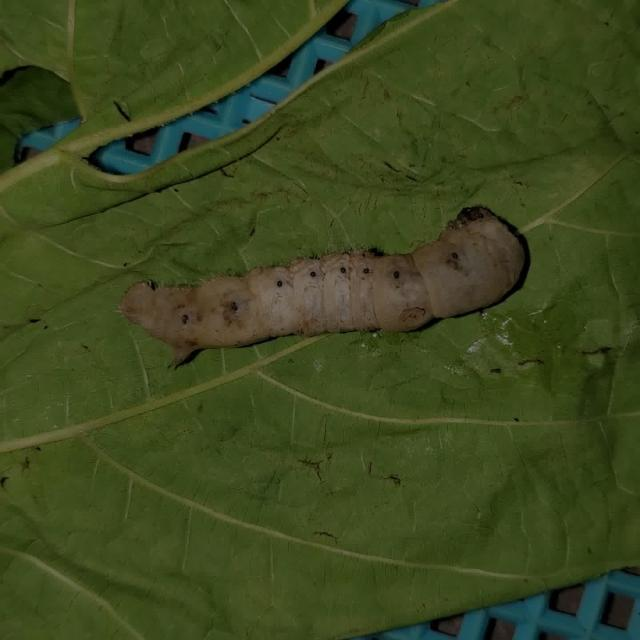Grasserie: (113, 206, 538, 364)
